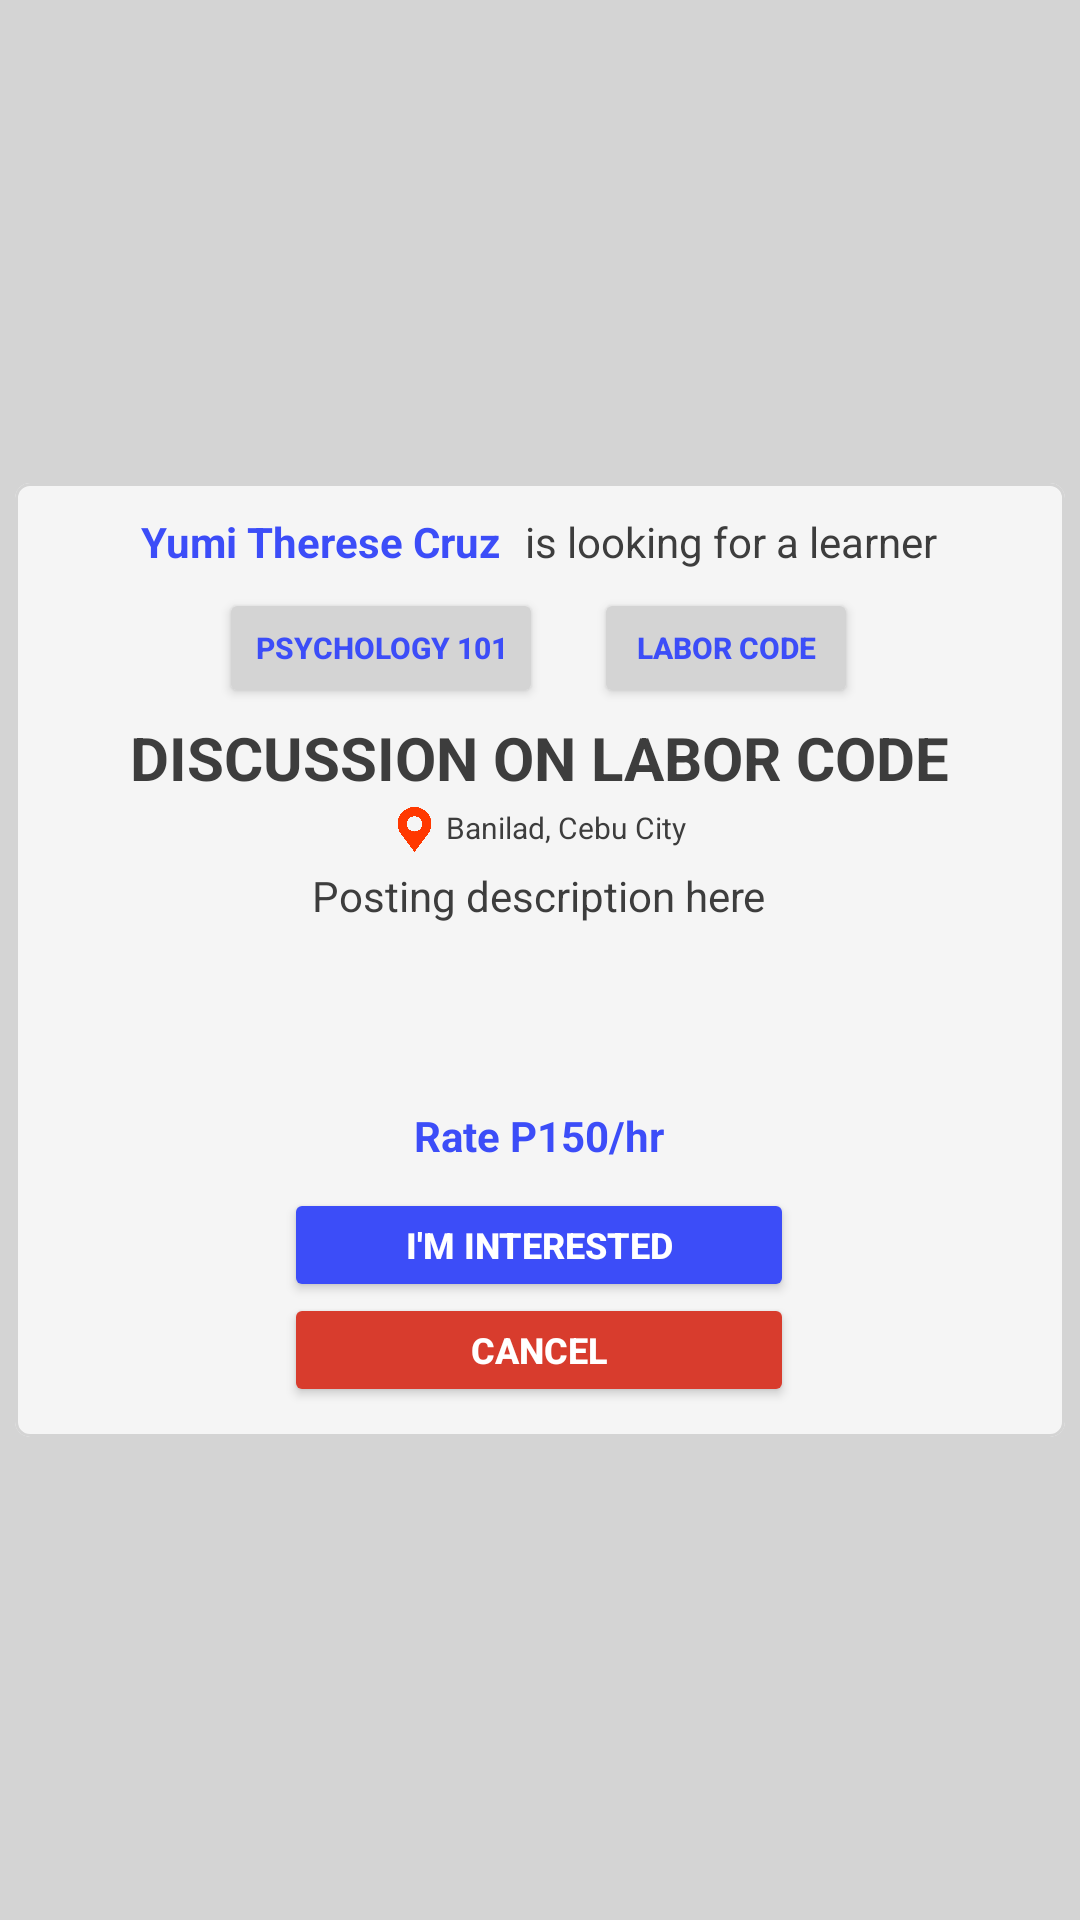

Where icons sit on this 1080*1920 app screen, as (x1, y1, x2, y2):
map pin: (398, 807, 431, 852)
